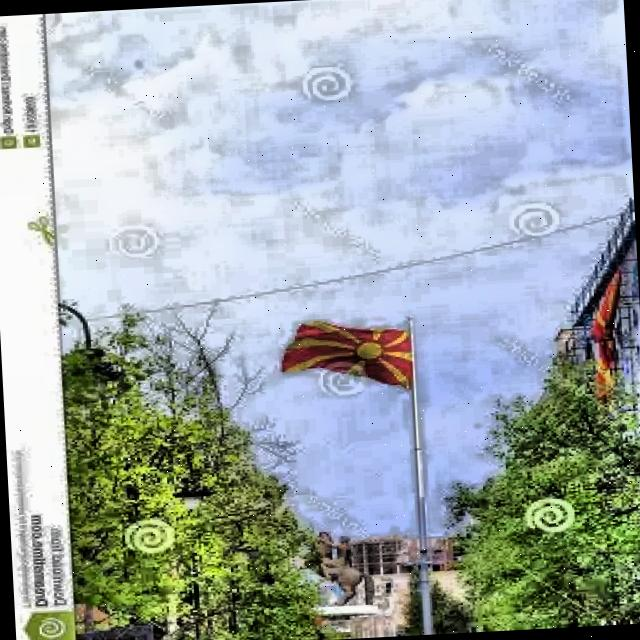alexander the great monument: (288, 524, 377, 640)
